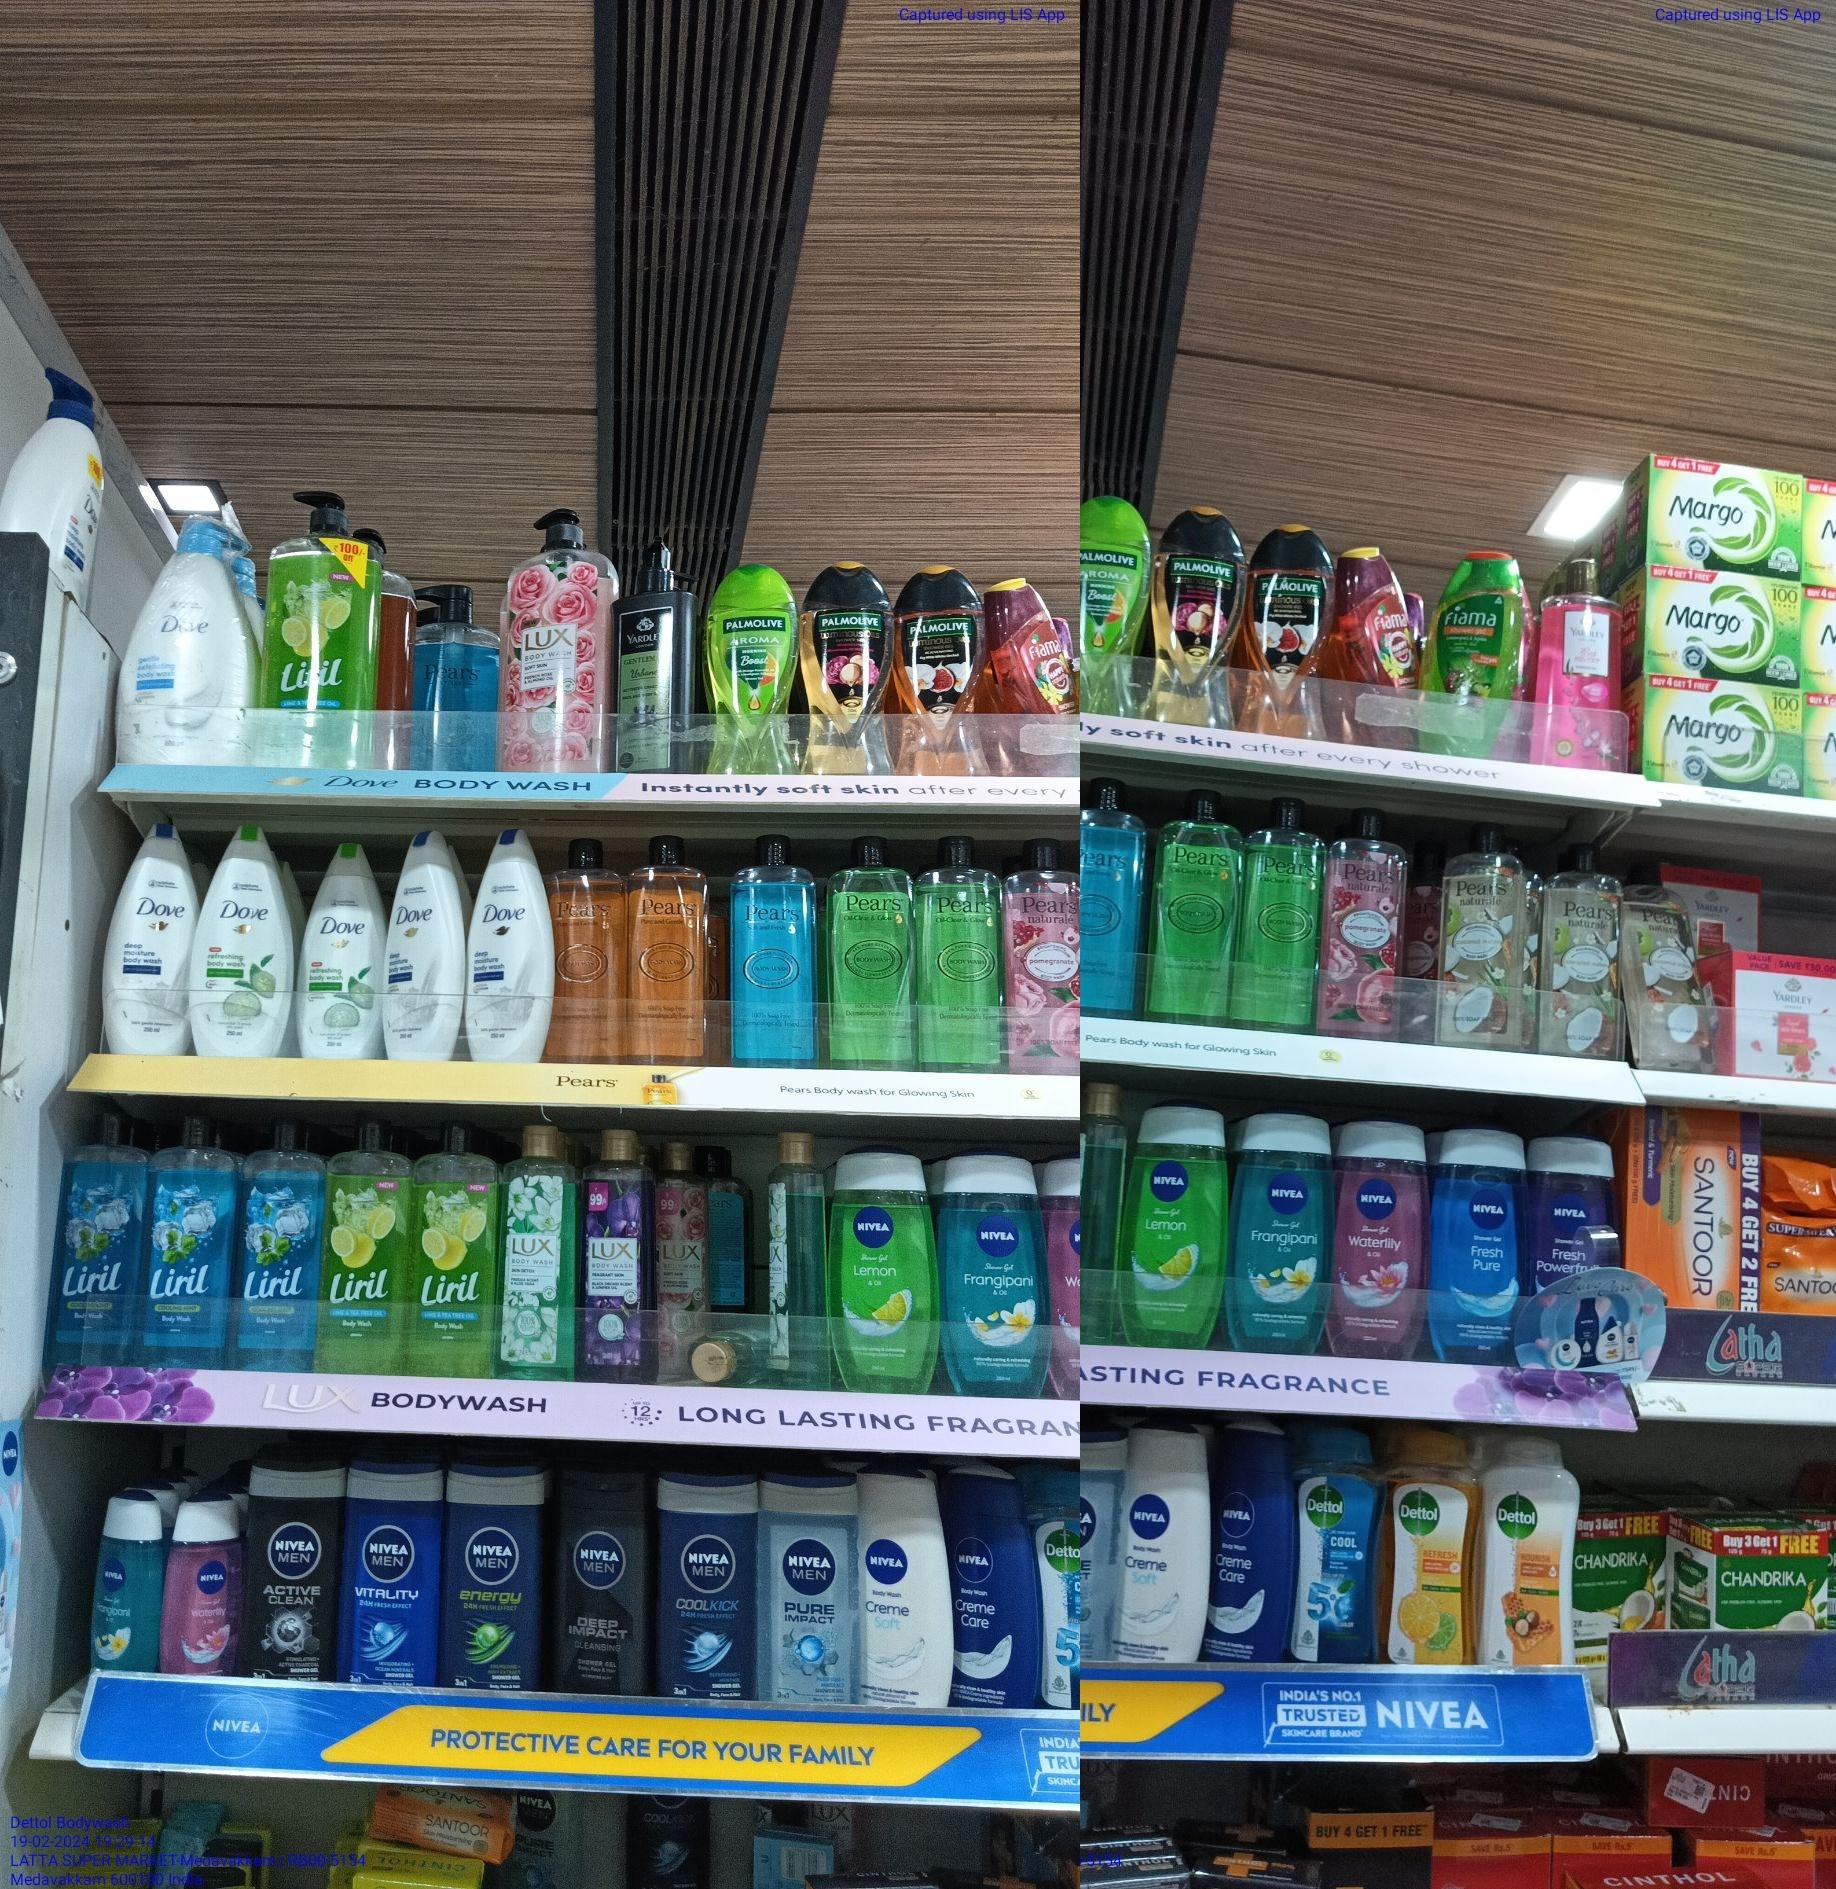Dettol_Bodywash_Cool: (1295, 1425, 1379, 1660)
Dettol_Bodywash_Refresh: (1386, 1425, 1475, 1668)
Dettol_Nourish_Body_Wash_250ML: (1484, 1429, 1578, 1666)
Dove_Deep_Moisture_Body_Wash_250ML: (101, 808, 185, 1056), (465, 830, 555, 1061), (381, 830, 460, 1054)
Dove_Refreshing_Body_Wash_250ML: (192, 820, 288, 1058), (295, 835, 378, 1059)
Fiama_Shower_Gel_Lemongrass_and_Jojoba_250ML: (1430, 553, 1522, 759)
Liril_Cooling_Mint_Body_Wash_250ML: (228, 1111, 314, 1371), (56, 1111, 137, 1361), (148, 1113, 224, 1366)
Liril_Lime_and_Tea_Tree_Oil_Body_Wash_250ML: (411, 1106, 497, 1378), (320, 1111, 406, 1376)
Lux_Black_Orchid_Scent_and_Juniper_Oil_Body_Wash_245ML: (578, 1127, 647, 1383)
Lux_Body_Wash_Skin_Detox_Freesia_Scent_and_Alove_Vera_245ML: (504, 1120, 577, 1381)
Nivea_Creme_Care_Body_Wash_250ML: (951, 1469, 1039, 1710), (1212, 1418, 1290, 1661)
Nivea_Creme_Soft_Body_Wash_250ML: (860, 1474, 949, 1707), (1128, 1417, 1207, 1663)
Nivea_Shower_Gel_Frangipani_and_Oil_250ML: (942, 1144, 1047, 1398), (1232, 1111, 1334, 1353), (89, 1489, 164, 1671)
Nivea_Shower_Gel_Fresh_Powerfruit_250ML: (1533, 1140, 1620, 1273)
Nivea_Shower_Gel_Lemon_and_Oil_250ML: (824, 1152, 937, 1393), (1121, 1103, 1224, 1344)
Nivea_Shower_Gel_Waterlily_and_Oil_250ML: (1339, 1111, 1428, 1363), (170, 1501, 241, 1675)
Palmolive_Luminous_Oils_Invigorating_Macadamia_Oil_With_Peony_250ML: (1150, 504, 1244, 729), (804, 552, 894, 779)
Palmolive_Luminous_Oils_With_White_Orchid_Shower_Gel_250ML: (895, 562, 986, 776), (1249, 525, 1327, 740)
Pears_Pure_Glycerin_and_Lemon_Flower_Extracts_Body_Wash_250ML: (826, 833, 917, 1068), (921, 833, 1005, 1071), (1152, 798, 1237, 1019), (1243, 798, 1325, 1025)
Pears_Pure_Glycerin_and_Mint_Extracts_Body_Wash_250ML: (730, 831, 818, 1066), (1079, 781, 1146, 1017)
